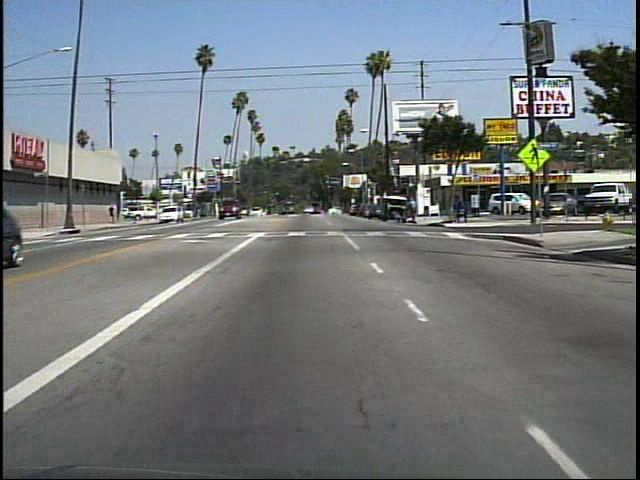person: (406, 195, 420, 226), (390, 209, 407, 228), (109, 200, 118, 225)
